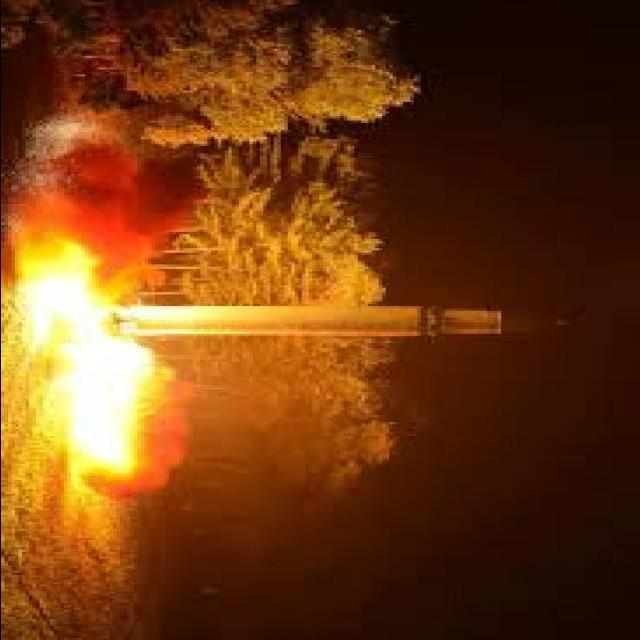missile: (96, 299, 525, 339)
